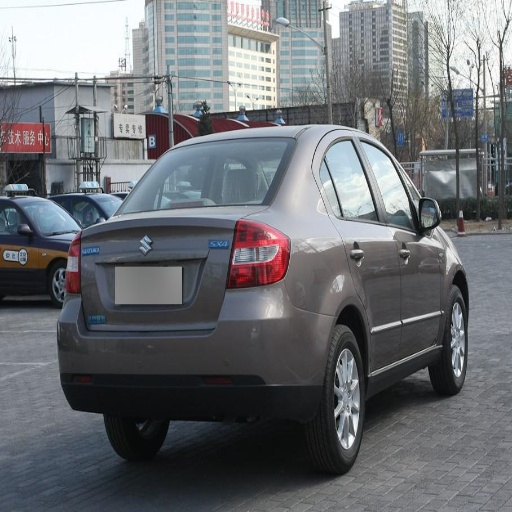back_bumper: (56, 281, 332, 421)
back_left_light: (54, 233, 80, 294)
back_right_door: (315, 133, 401, 370)
